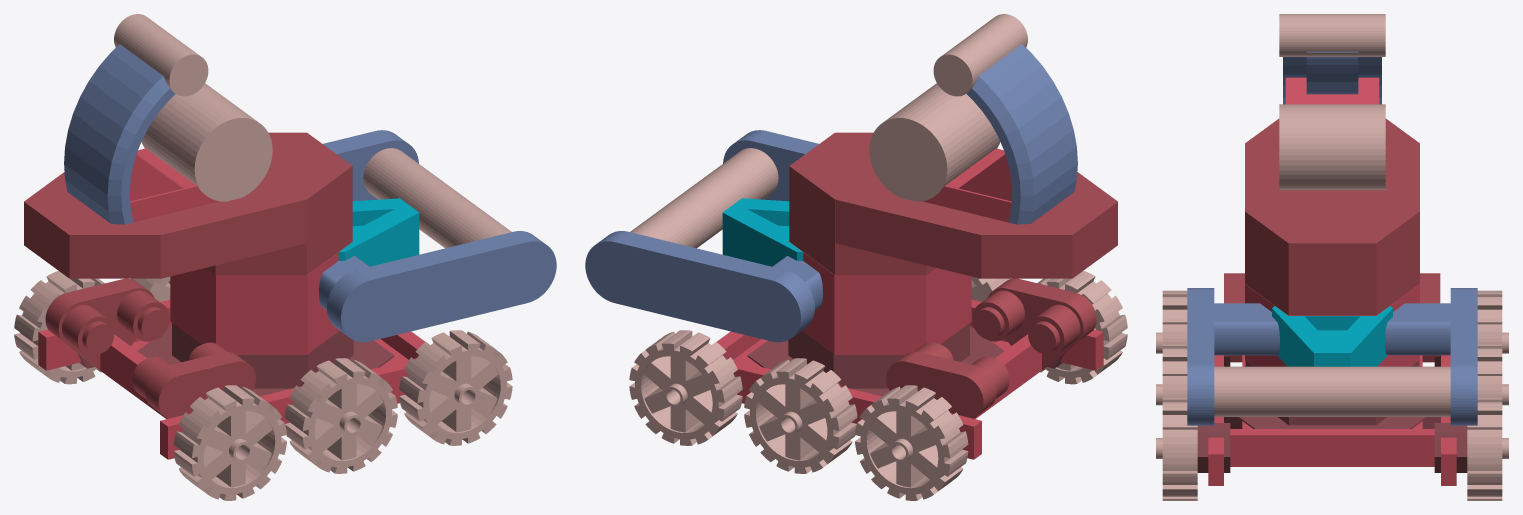
File: bot-westcoast-red-shooter.glb
The picture shows the model from 3 angles, left to right: view 1: azimuth 30°, elevation 25°; view 2: azimuth 150°, elevation 25°; view 3: azimuth 270°, elevation 25°; orthographic projection. The views are drawn at different scales.
Visible parts, largest first — view 1: Mesh_Mesh_head_geo.001_lambert2SG.001; view 2: Mesh_Mesh_head_geo.001_lambert2SG.001; view 3: Mesh_Mesh_head_geo.001_lambert2SG.001.
Part boxes in pixels (x1,y1,x2,y2): Mesh_Mesh_head_geo.001_lambert2SG.001: [14, 14, 556, 500]; Mesh_Mesh_head_geo.001_lambert2SG.001: [585, 14, 1127, 500]; Mesh_Mesh_head_geo.001_lambert2SG.001: [1156, 14, 1508, 500].
Size of the model in its own units: 0.0312 by 0.0273 by 0.023.
